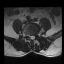CCS_normal: (31, 33, 33, 41)
LFS_stenosis: (35, 31, 37, 37)
LLS_normal: (33, 32, 35, 40)
RFS_stenosis: (27, 32, 29, 38)
RLS_normal: (29, 33, 31, 40)
